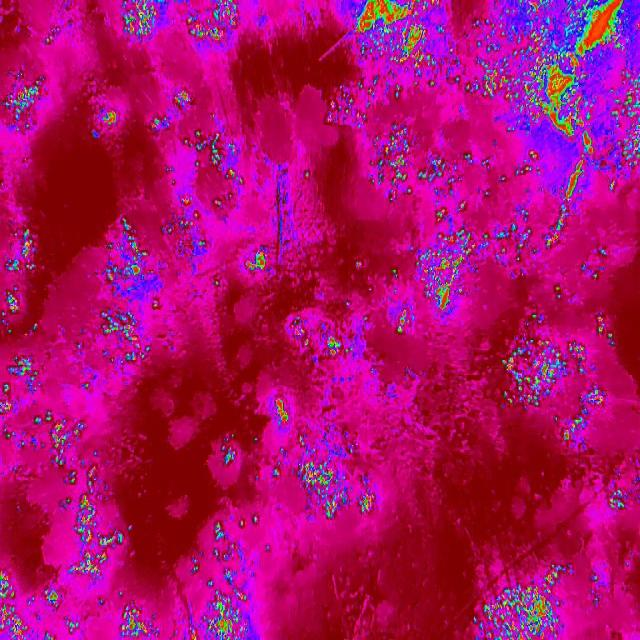fire: (330, 0, 640, 338), (75, 80, 278, 368), (0, 231, 123, 640), (190, 388, 373, 584), (484, 334, 640, 514), (470, 562, 604, 640), (115, 587, 265, 640), (111, 0, 248, 50), (0, 59, 53, 137), (290, 319, 348, 363)
